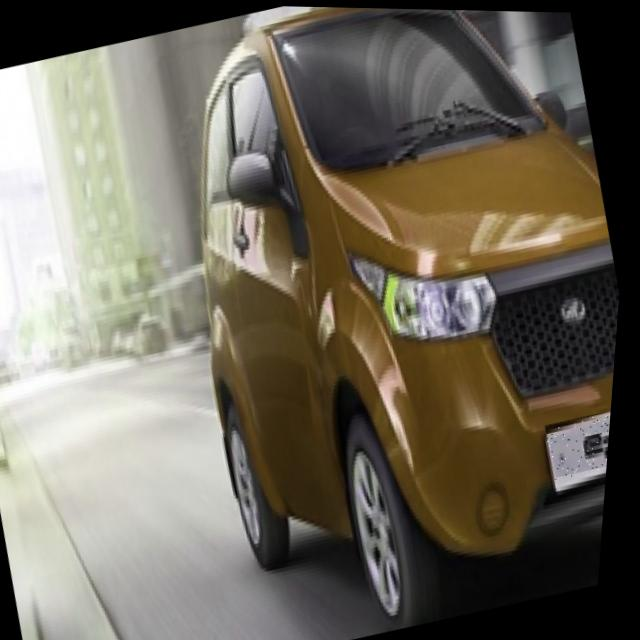license_plate: (548, 399, 617, 477)
